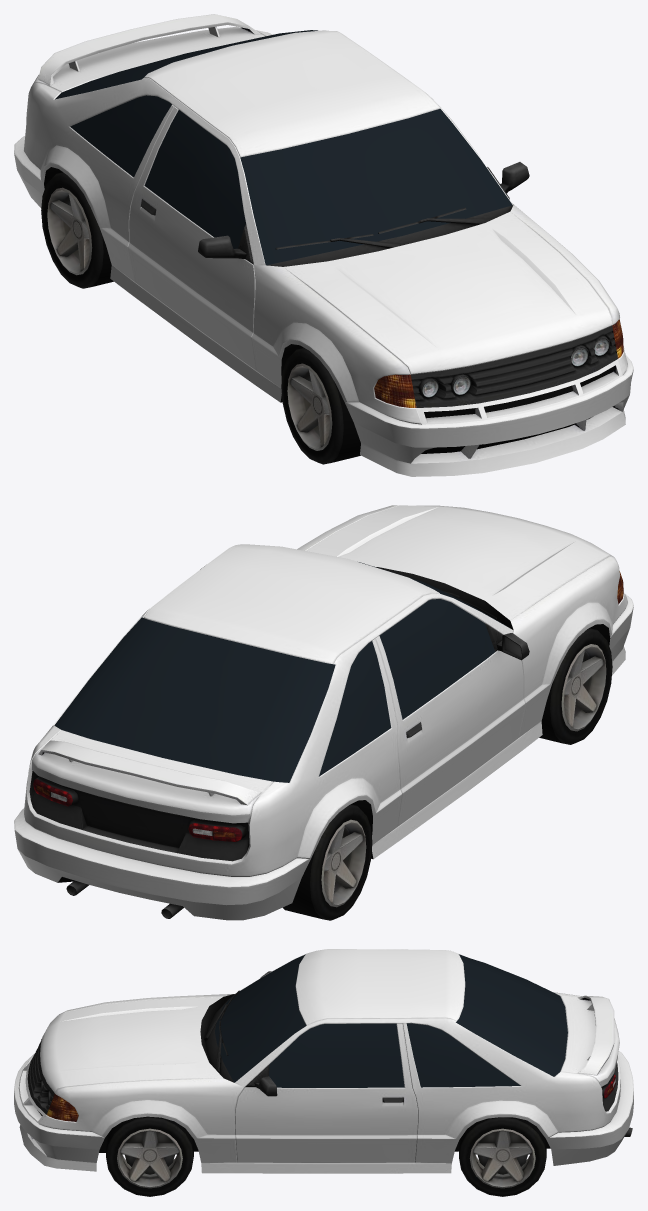
The model's file is coupe.glb.
The picture shows the model from 3 angles, top to bottom: view 1: azimuth 30°, elevation 25°; view 2: azimuth 150°, elevation 25°; view 3: azimuth 270°, elevation 25°; orthographic projection. The views are drawn at different scales.
Visible parts, largest first — view 1: carrosserie, wheel_2, wheel_0; view 2: carrosserie, wheel_0, wheel_2; view 3: carrosserie, wheel_3, wheel_1.
Part boxes in pixels (box(x1,y1,x2,y2)): carrosserie: box(14, 14, 633, 476); wheel_2: box(281, 348, 360, 464); wheel_0: box(41, 172, 113, 288); carrosserie: box(14, 505, 633, 920); wheel_0: box(282, 804, 372, 920); wheel_2: box(539, 628, 612, 744); carrosserie: box(14, 949, 633, 1173); wheel_3: box(106, 1116, 193, 1196); wheel_1: box(459, 1117, 546, 1196).
Size of the model in its own units: 2.12 by 1.44 by 4.77.
Materials: 7 (6 with a texture image).
